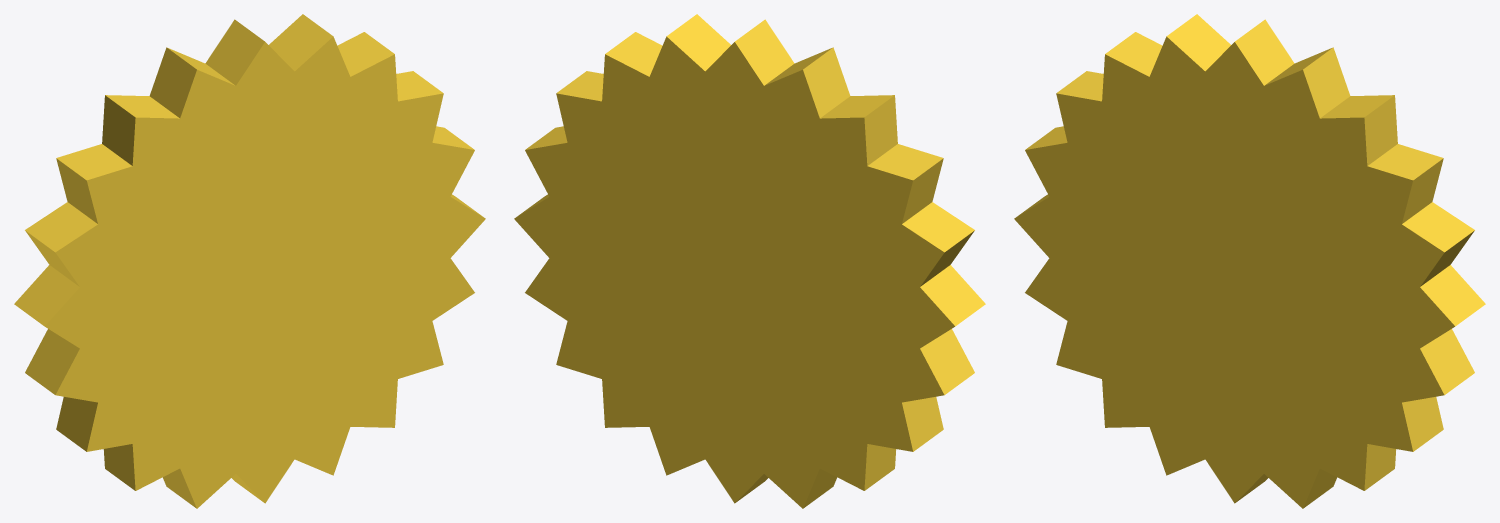
File: star.glb
3 renders of one model, left to right at view 1: azimuth 30°, elevation 25°; view 2: azimuth 150°, elevation 25°; view 3: azimuth 330°, elevation 25°, orthographic.
Visible parts, largest first — view 1: Star; view 2: Star; view 3: Star.
Part boxes in pixels (x1=…): Star: x1=14, y1=14, x2=485, y2=508; Star: x1=514, y1=14, x2=985, y2=508; Star: x1=1014, y1=14, x2=1485, y2=508.
Size of the model in its own units: 0.1 by 0.1 by 0.012.
